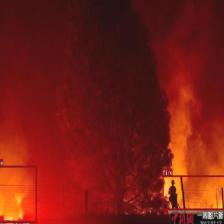fire: (162, 175, 224, 210), (0, 165, 36, 222)
